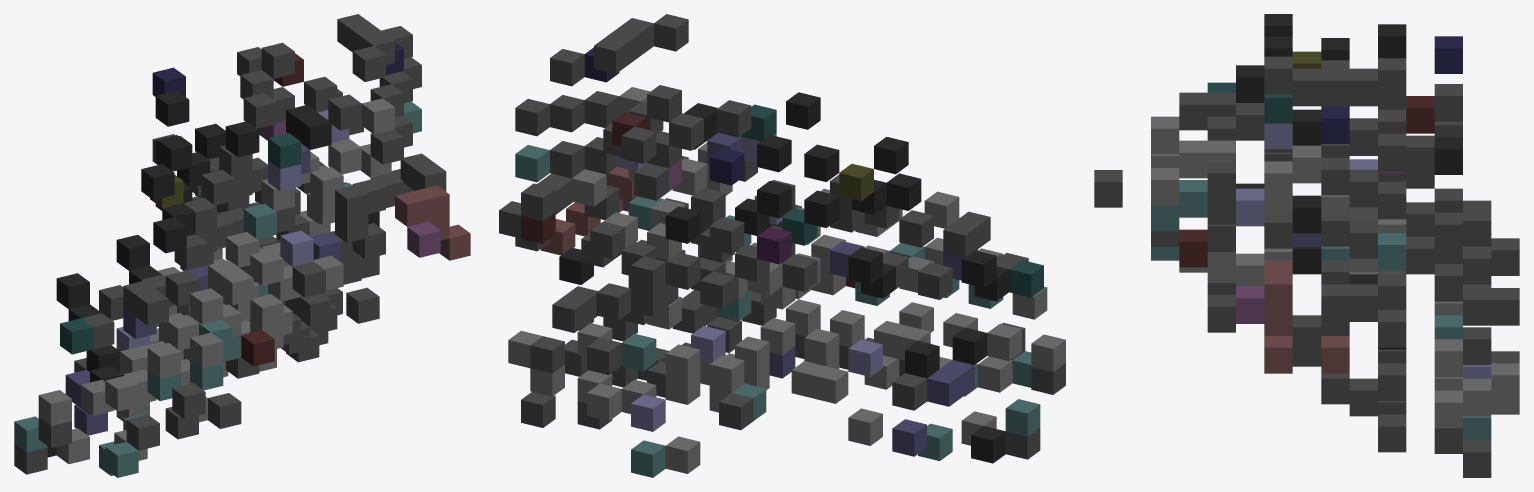
File: object_009_voxel.obj
The picture shows the model from 3 angles, left to right: view 1: azimuth 30°, elevation 25°; view 2: azimuth 150°, elevation 25°; view 3: azimuth 270°, elevation 25°; orthographic projection. The views are drawn at different scales.
Bounding box in the file's own units: 0.21 × 0.16 × 0.15.
